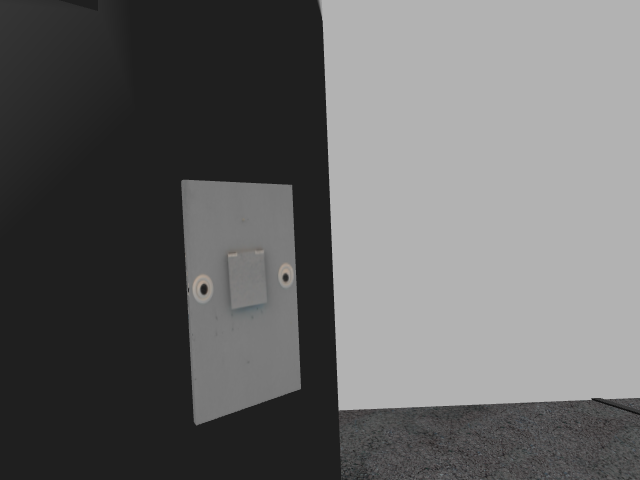facade: (193, 250, 294, 309)
